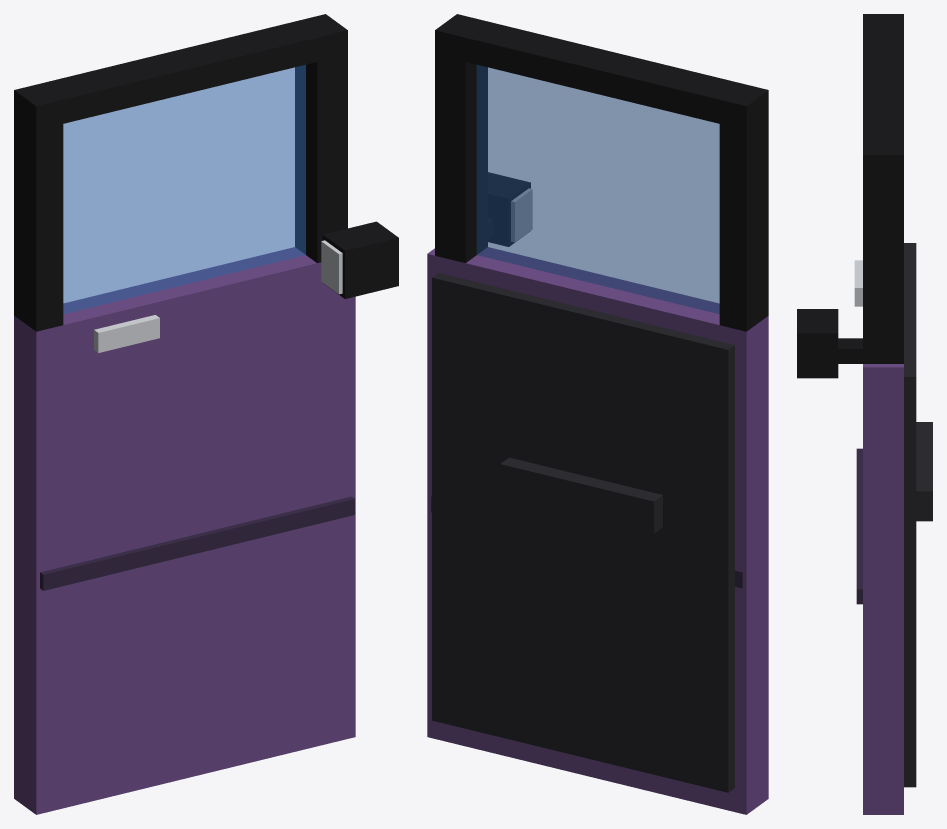
The model's file is door_front_l.obj.
The picture shows the model from 3 angles, left to right: view 1: azimuth 30°, elevation 25°; view 2: azimuth 150°, elevation 25°; view 3: azimuth 270°, elevation 25°; orthographic projection. The views are drawn at different scales.
Parts seen in each view (by area): view 1: Door_Front_L; view 2: Door_Front_L; view 3: Door_Front_L.
Boxes of the visible parts, <box> form: Door_Front_L: <box>14,14,398,814</box>; Door_Front_L: <box>427,14,768,814</box>; Door_Front_L: <box>797,14,932,814</box>.
Size of the model in its own units: 0.85 by 1.76 by 0.33.
